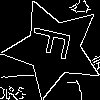F: (28, 23, 81, 64)
